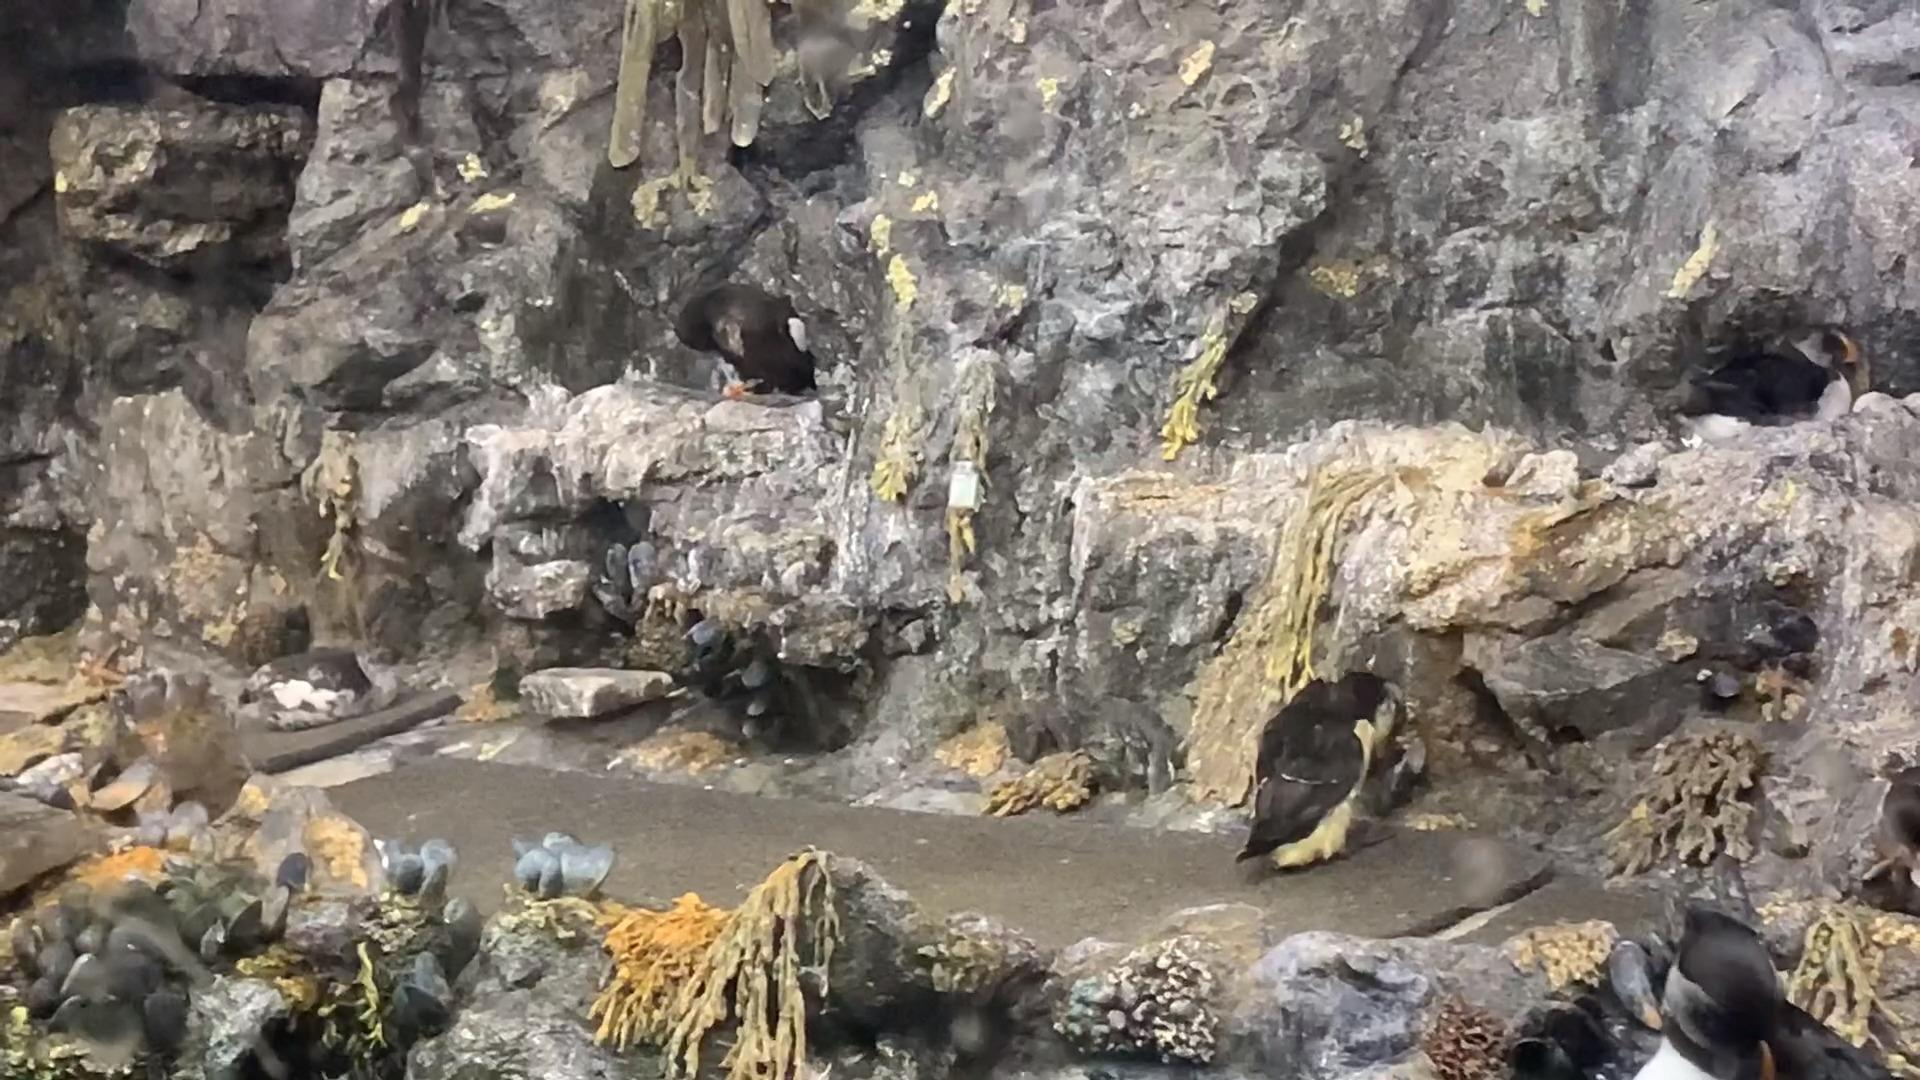puffin: (1625, 913, 1863, 1080), (1232, 665, 1408, 880), (675, 280, 822, 400), (1696, 320, 1859, 418)
